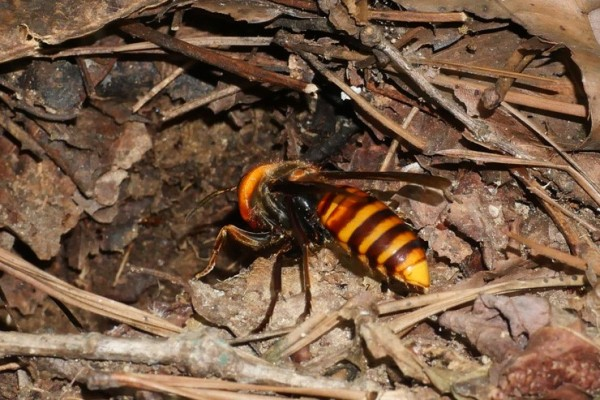asian_giant_hornet: (197, 157, 434, 292)
